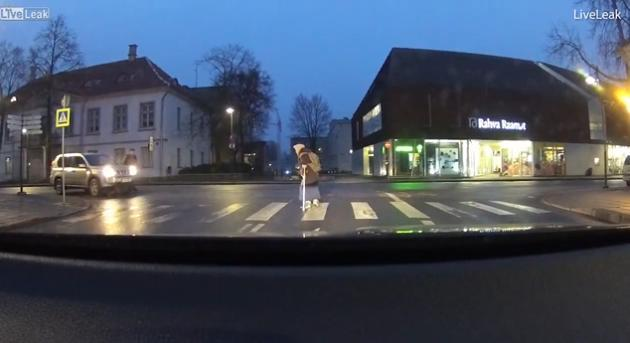crutches: (293, 143, 322, 211)
